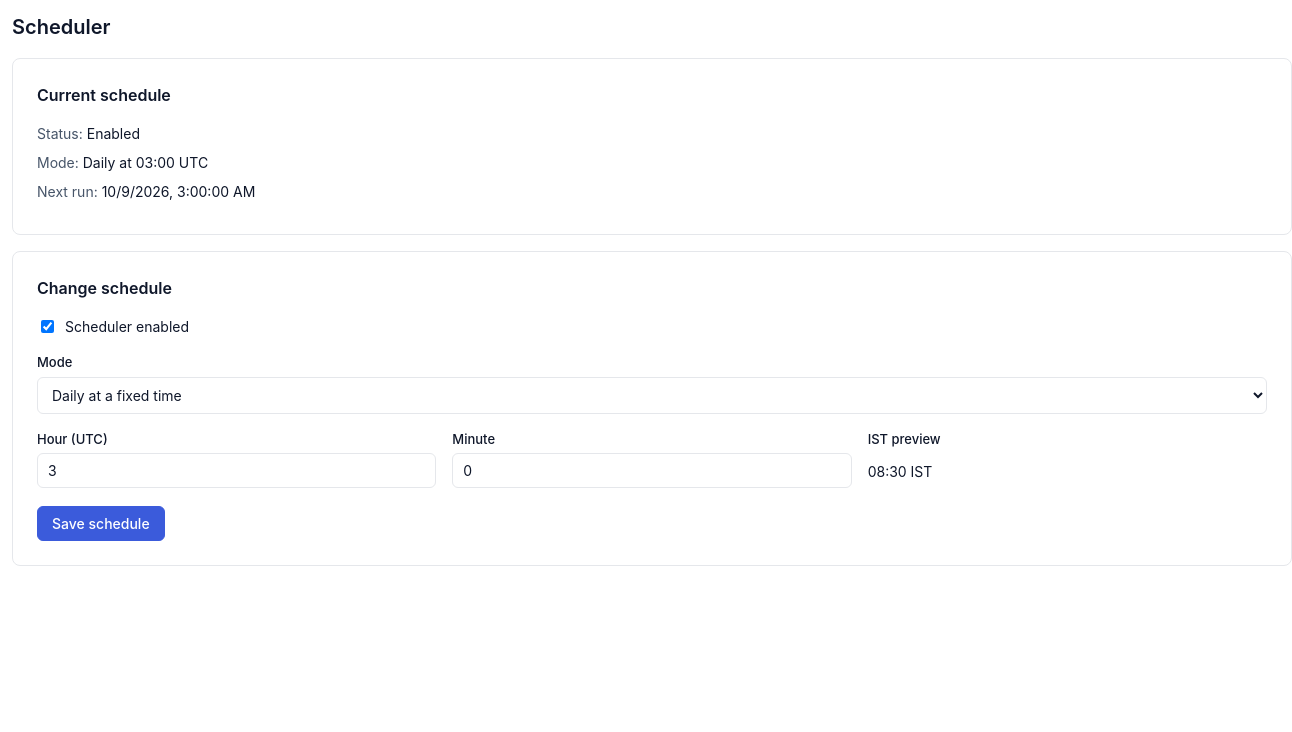
Test: SchedulerPage form validation › rejects an interval below 15 minutes
Select "Every N minutes" in the dropdown labelled "Mode" at {"x": 652, "y": 395}, box [37,376,1267,414]
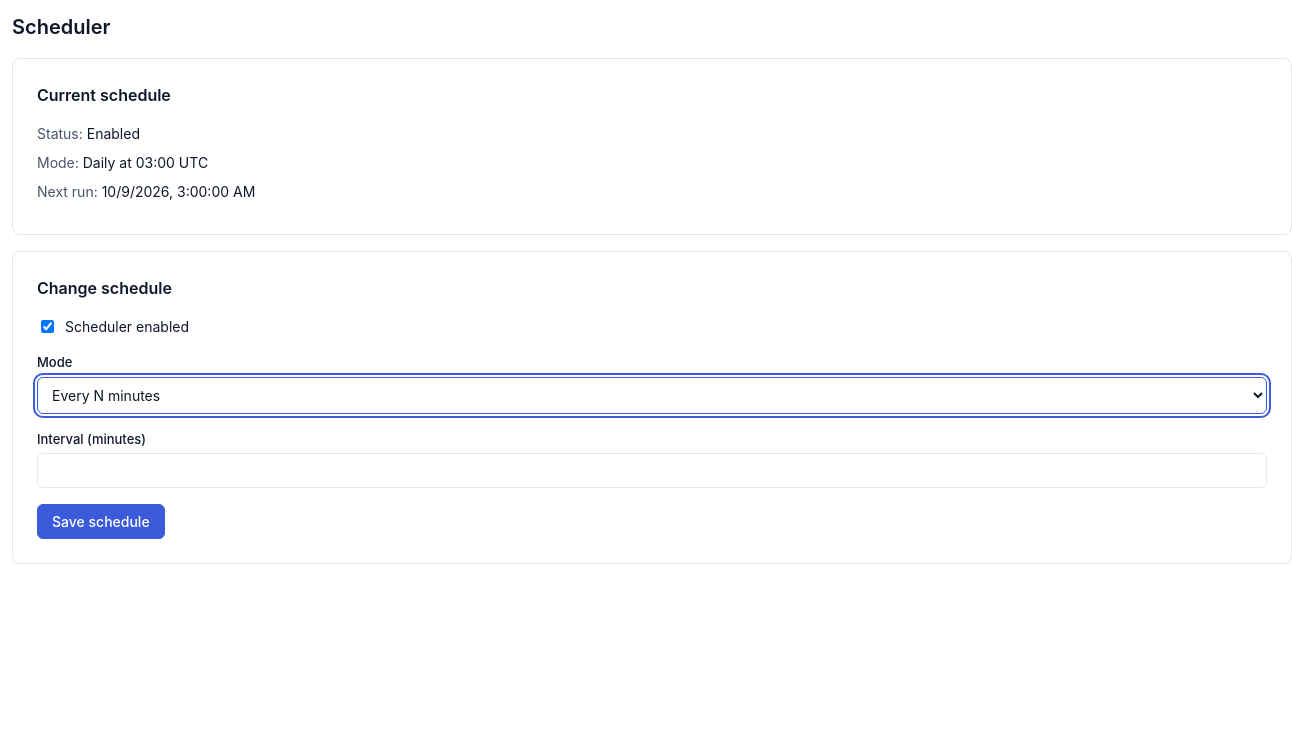
Type "5" into the number field labelled "Interval (minutes)" at {"x": 652, "y": 470}, box [37,453,1267,488]
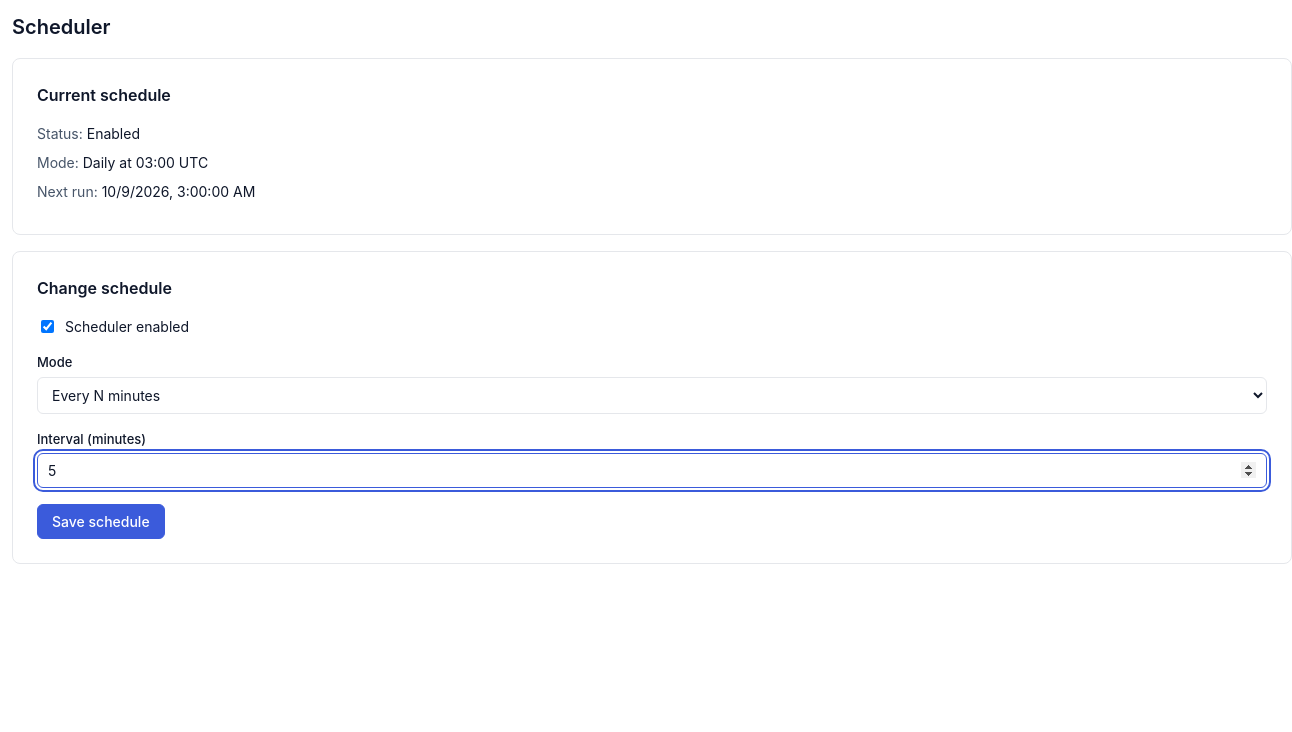
Click the button "Save schedule" at {"x": 101, "y": 522}, box [37,504,165,539]
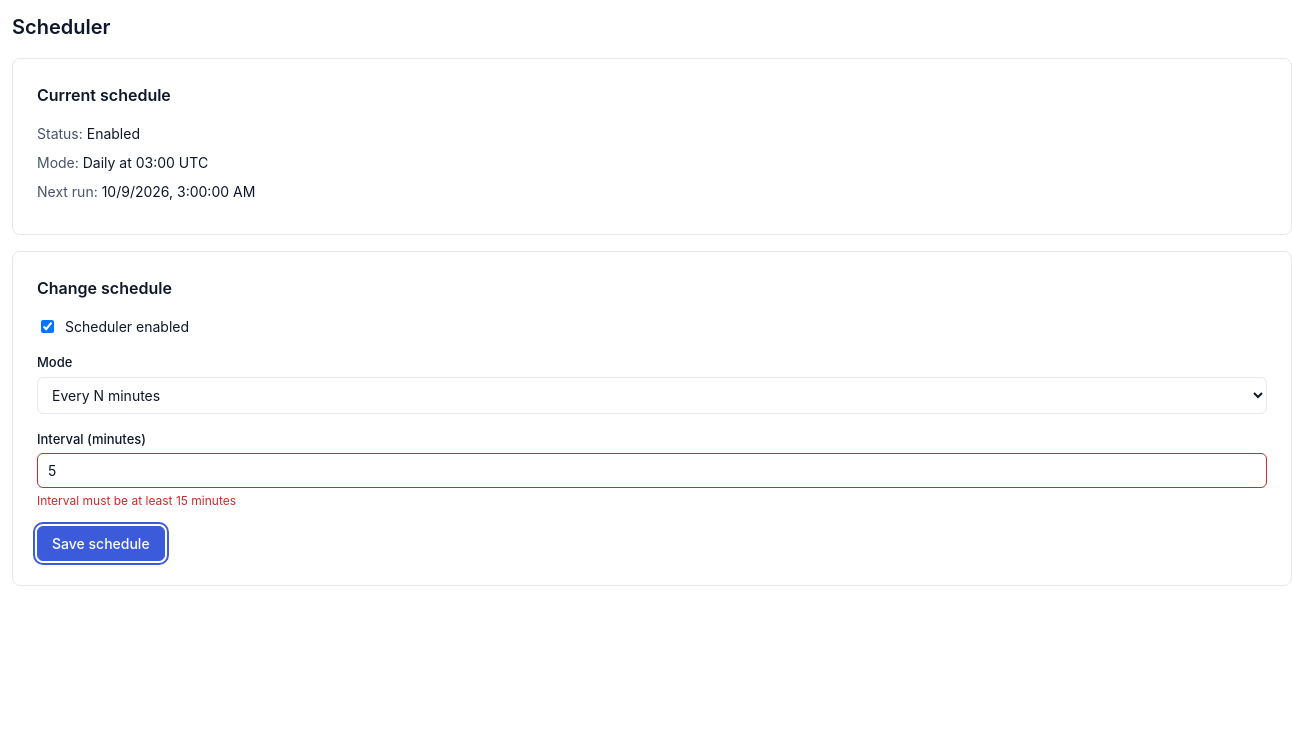
Check: the text "Interval must be at least 15 minutes" is shown, box [37,493,236,508]
